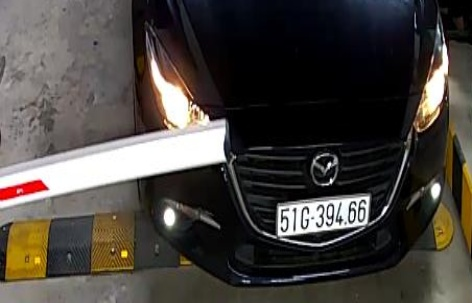plate: (270, 189, 378, 236)
